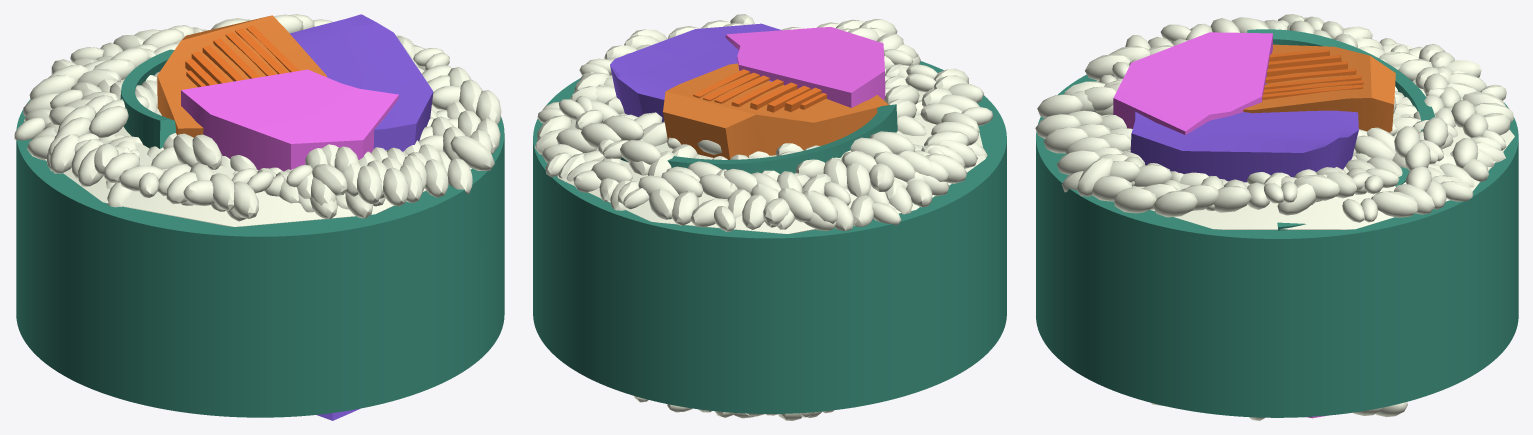
Rendered from shortsushii.fbx.
3 renders of one model, left to right at view 1: azimuth 30°, elevation 25°; view 2: azimuth 150°, elevation 25°; view 3: azimuth 270°, elevation 25°, orthographic. The views are drawn at different scales.
Visible parts, largest first — view 1: Icosphere.003; view 2: Icosphere.003; view 3: Icosphere.003.
Part boxes in pixels (x1,y1,x2,y2): Icosphere.003: (14,14,504,420); Icosphere.003: (533,14,1006,420); Icosphere.003: (1035,14,1518,420).
Bounding box in the file's own units: 449 × 306 × 450.
